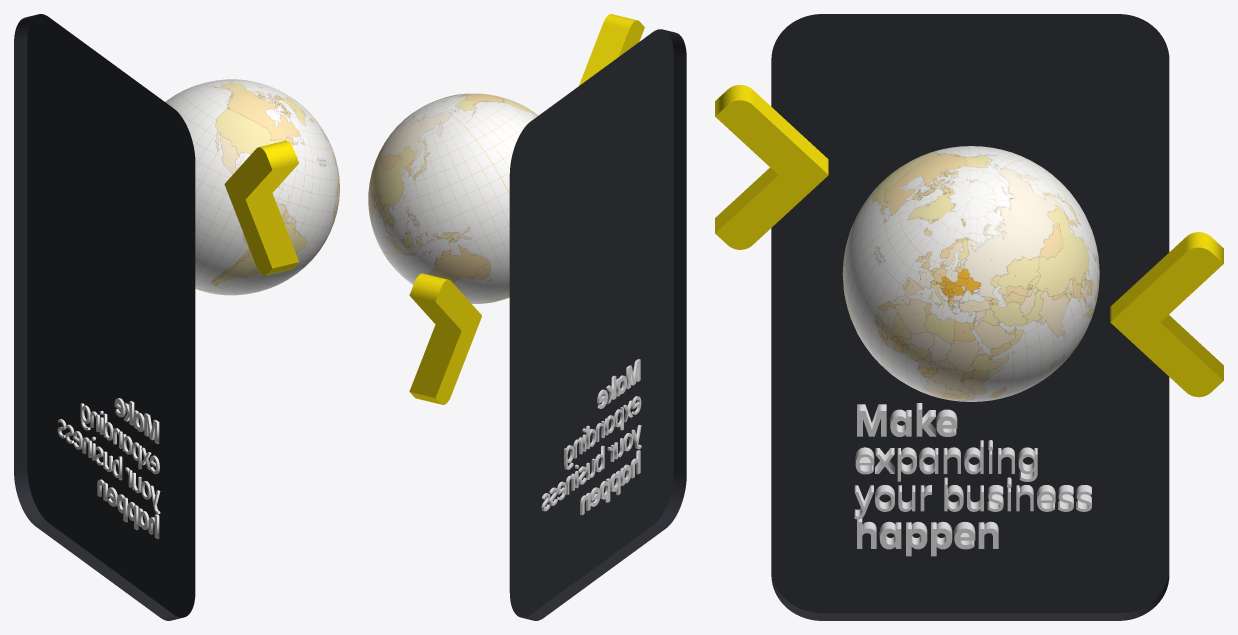
The model's file is ARCard.glb.
The picture shows the model from 3 angles, left to right: view 1: azimuth 30°, elevation 25°; view 2: azimuth 150°, elevation 25°; view 3: azimuth 270°, elevation 25°; orthographic projection. The views are drawn at different scales.
Visible parts, largest first — view 1: Plane, Surface.001, BG.001, Curve.032; view 2: Plane, Surface.001, BG.001, Curve.032; view 3: Plane, Surface.001, BG.001, Curve.032.
Boxes of the visible parts, x1=… form: Plane: x1=14, y1=14, x2=195, y2=620; Surface.001: x1=165, y1=79, x2=339, y2=295; BG.001: x1=224, y1=140, x2=298, y2=275; Curve.032: x1=57, y1=398, x2=160, y2=538; Plane: x1=509, y1=29, x2=686, y2=620; Surface.001: x1=368, y1=93, x2=538, y2=303; BG.001: x1=409, y1=14, x2=644, y2=404; Curve.032: x1=541, y1=359, x2=641, y2=515; Plane: x1=771, y1=14, x2=1169, y2=620; Surface.001: x1=842, y1=146, x2=1099, y2=401; BG.001: x1=715, y1=84, x2=1223, y2=397; Curve.032: x1=854, y1=403, x2=1091, y2=556.
Bounding box in the file's own units: 8.26 × 17.55 × 13.5.
4 materials, 1 textured.
